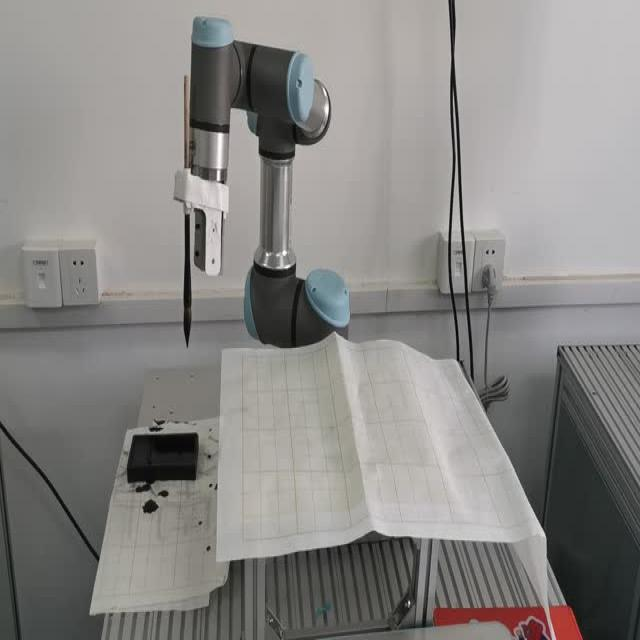head: (180, 322, 195, 350)
inkstone: (126, 432, 201, 487)
writing-brush: (174, 74, 201, 349)
